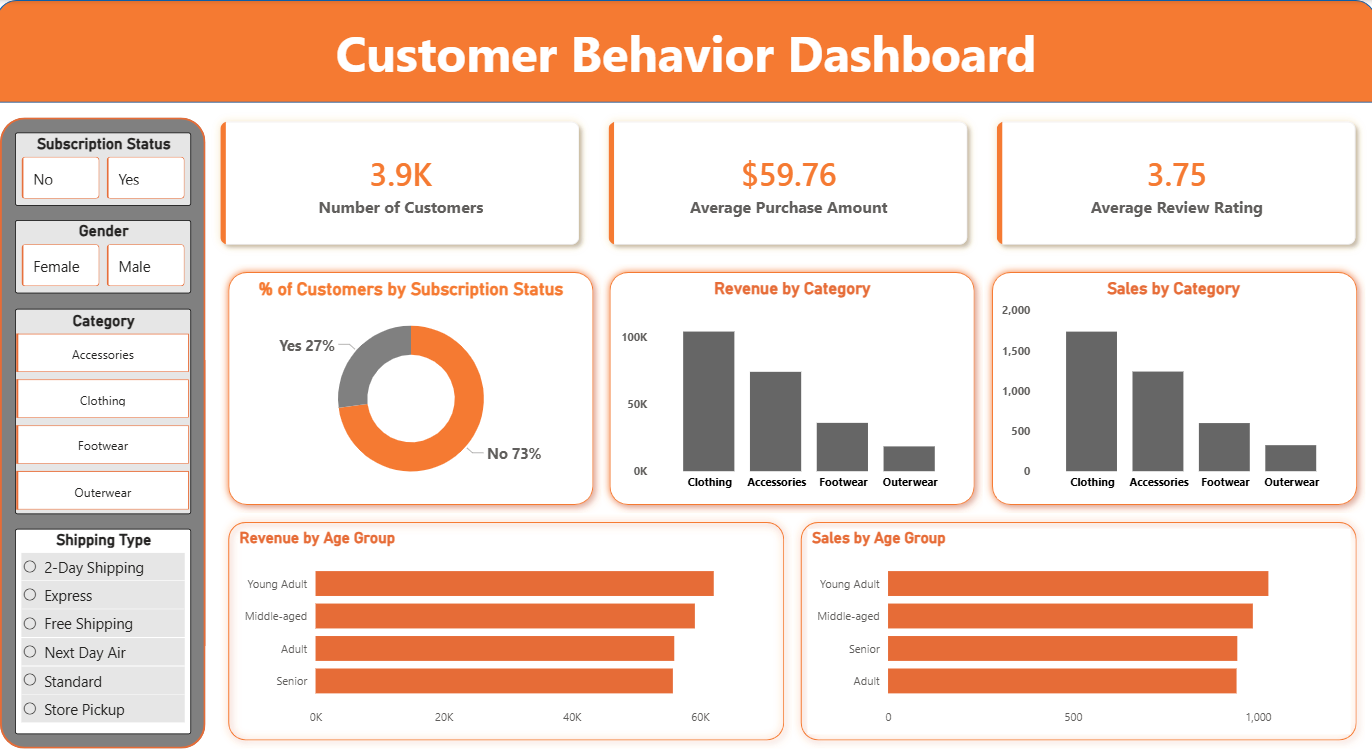

This screenshot's page, from the dashboard's own definition file:
{"tool":"powerbi","page":{"name":"Page 1","canvas":[1500,820],"ordinal":0},"visuals":[{"type":"cardVisual","fields":{"Data":["public customer.Number of Customers","public customer.Average Purchase Amount","public customer.Average Review Rating"]},"box":[220,112,1280,176],"z":0},{"type":"shape","box":[-4,0,1504,112],"z":1000},{"type":"textbox","box":[-4,16,1504,96],"z":2000},{"type":"shape","box":[240,288,416,272],"z":3000},{"type":"donutChart","title":"% of Customers by Subscription Status","fields":{"Category":["public customer.subscription_status"],"Y":["CountNonNull(public customer.customer_id)"]},"box":[256,304,384,240],"z":4000},{"type":"shape","box":[656,288,416,272],"z":5000},{"type":"shape","box":[1072,288,416,272],"z":6000},{"type":"clusteredColumnChart","title":"Revenue by Category","fields":{"Y":["Sum(public customer.purchase_amount)"],"Category":["public customer.category"]},"box":[672,304,384,240],"z":7000},{"type":"clusteredColumnChart","title":"Sales by Category","fields":{"Y":["CountNonNull(public customer.customer_id)"],"Category":["public customer.category"]},"box":[1088,304,384,240],"z":8000},{"type":"shape","box":[0,128,224,688],"z":9000},{"type":"advancedSlicerVisual","title":"Subscription Status","fields":{"Values":["public customer.subscription_status"]},"box":[16,144,192,80],"z":10000},{"type":"advancedSlicerVisual","title":"Gender","fields":{"Values":["public customer.gender"]},"box":[16,240,192,80],"z":11000},{"type":"advancedSlicerVisual","title":"Category","fields":{"Values":["public customer.category"]},"box":[16,336,192,224],"z":12000},{"type":"listSlicer","fields":{"Values":["public customer.shipping_type"]},"box":[16,576,192,224],"z":13000},{"type":"clusteredBarChart","title":"Revenue by Age Group","fields":{"Y":["Sum(public customer.purchase_amount)"],"Category":["public customer.age_group"]},"box":[256,576,592,224],"z":14000},{"type":"shape","box":[240,560,624,256],"z":15000},{"type":"shape","box":[864,560,624,256],"z":16000},{"type":"clusteredBarChart","title":"Sales by Age Group","fields":{"Y":["CountNonNull(public customer.customer_id)"],"Category":["public customer.age_group"]},"box":[880,576,592,224],"z":17000}]}

Visuals, with their boxes in screenshot pixels (x1, y1, x2, y2), scaled from the page's 1500x820 canvas onto the 1372x751 screenshot:
cardVisual - public customer.Number of Customers x public customer.Average Purchase Amount: 201:103:1371:264
shape: 0:0:1371:103
textbox: 0:15:1371:103
shape: 220:264:600:513
"% of Customers by Subscription Status" donutChart: 234:278:585:498
shape: 600:264:981:513
shape: 981:264:1361:513
"Revenue by Category" clusteredColumnChart: 615:278:966:498
"Sales by Category" clusteredColumnChart: 995:278:1346:498
shape: 0:117:205:747
"Subscription Status" advancedSlicerVisual: 15:132:190:205
"Gender" advancedSlicerVisual: 15:220:190:293
"Category" advancedSlicerVisual: 15:308:190:513
listSlicer - public customer.shipping_type: 15:528:190:733
"Revenue by Age Group" clusteredBarChart: 234:528:776:733
shape: 220:513:790:747
shape: 790:513:1361:747
"Sales by Age Group" clusteredBarChart: 805:528:1346:733
